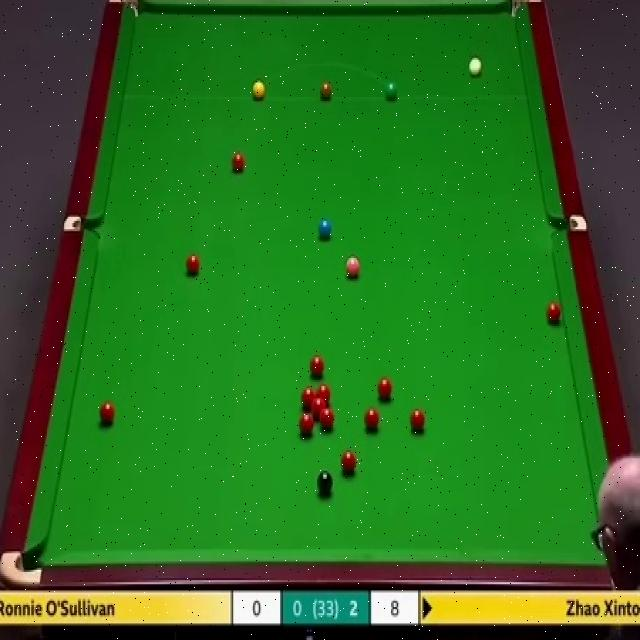black-ball: (316, 469, 332, 496)
blue-ball: (318, 216, 332, 242)
brown-ball: (319, 80, 332, 100)
green-ball: (385, 81, 398, 100)
pink-ball: (344, 256, 361, 279)
red-ball: (408, 407, 428, 435), (364, 406, 381, 436), (376, 374, 392, 404), (342, 447, 357, 477), (99, 400, 115, 427), (315, 382, 332, 407), (231, 150, 246, 177), (546, 301, 561, 327), (310, 356, 326, 380), (299, 413, 314, 438), (319, 406, 334, 431), (302, 386, 316, 411), (187, 252, 200, 278), (312, 398, 327, 419)
white-ball: (468, 54, 483, 80)
yellow-ball: (252, 80, 266, 100)
